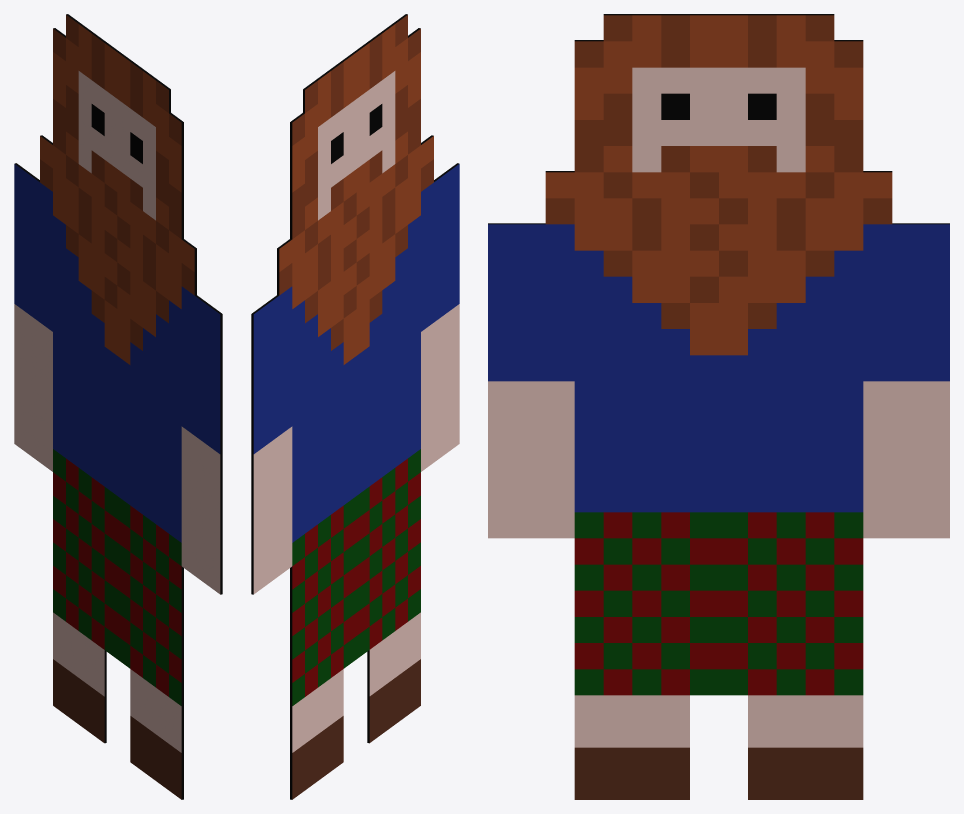
File: AxeSoldier.fbx
3 views of the same model, side by side, from view 1: azimuth 30°, elevation 25°; view 2: azimuth 150°, elevation 25°; view 3: azimuth 270°, elevation 25° (orthographic). The views are drawn at different scales.
Parts seen in each view (by area): view 1: Cube; view 2: Cube; view 3: Cube.
Boxes of the visible parts, box(x1,y1,x2,y2) form: Cube: box(14, 14, 222, 799); Cube: box(251, 14, 459, 799); Cube: box(488, 14, 949, 799).
Bounding box in the file's own units: 20 × 6000 × 3200.
